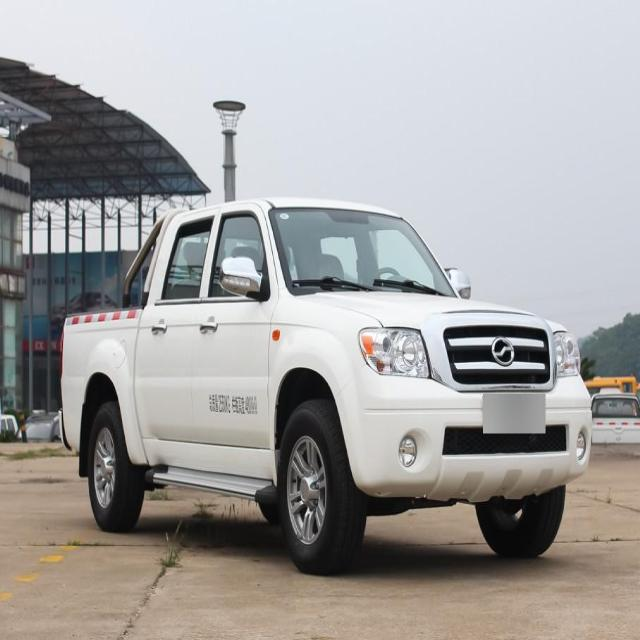door: (141, 206, 220, 479)
front_bumper: (330, 358, 592, 497)
front_glass: (268, 204, 456, 298)
front_left_side_light: (549, 326, 584, 376)
front_left_side_mirror: (443, 265, 472, 298)
front_right_side_door: (191, 200, 277, 467)
front_right_side_light: (357, 325, 432, 381)
front_right_side_mirror: (219, 254, 263, 300)
wheel: (276, 405, 358, 574), (88, 402, 142, 528), (472, 484, 567, 554)
